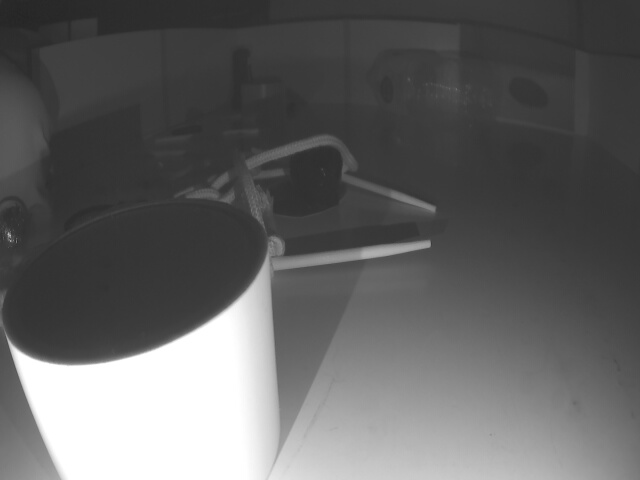Dead: (295, 137, 344, 212)
Live: (0, 196, 28, 268)
